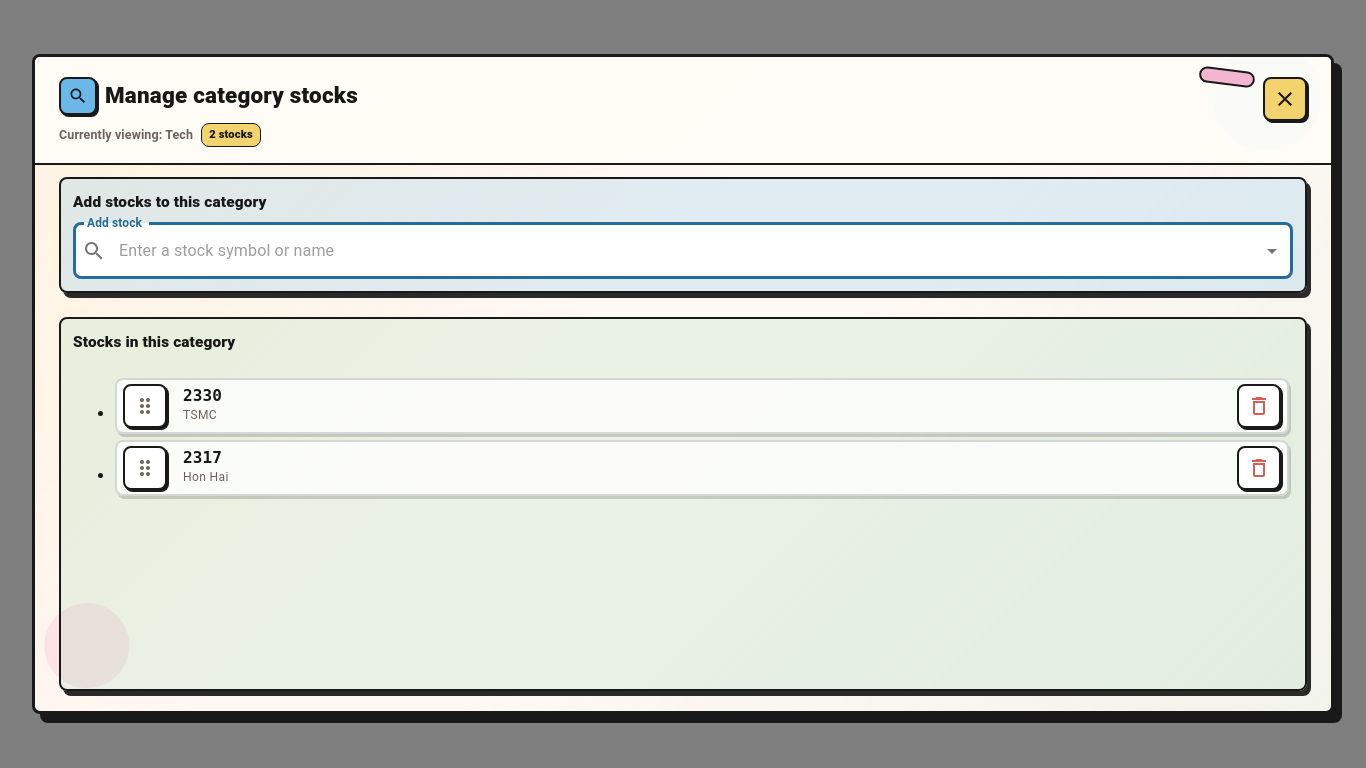
Test case: AddStockDialog category stock management › persists a searched stock immediately and keeps the dialog open
Type "2454" into the dropdown at {"x": 684, "y": 251}, box top-left (114, 232), bottom-right (1254, 270)
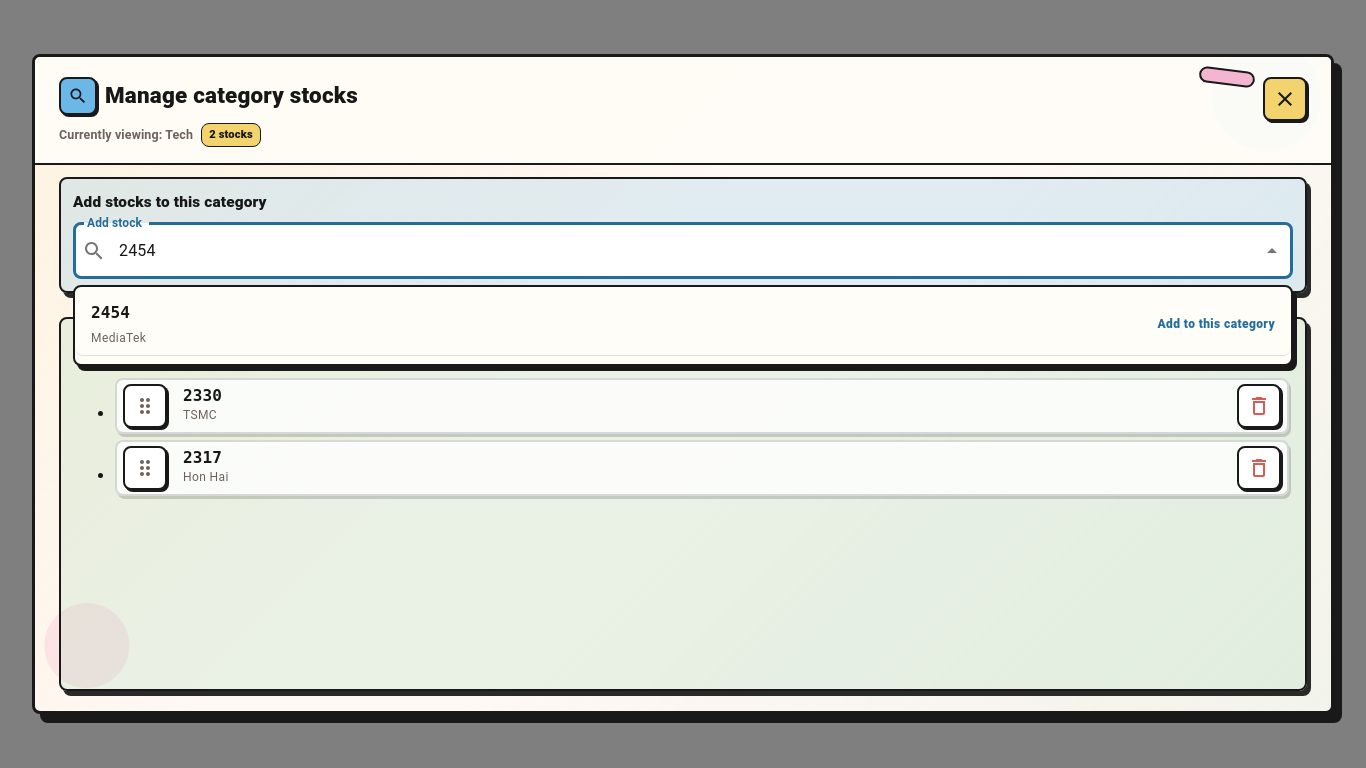
Click the option "2454 MediaTek Add to this category" at {"x": 111, "y": 312}, box top-left (75, 295), bottom-right (1291, 356)
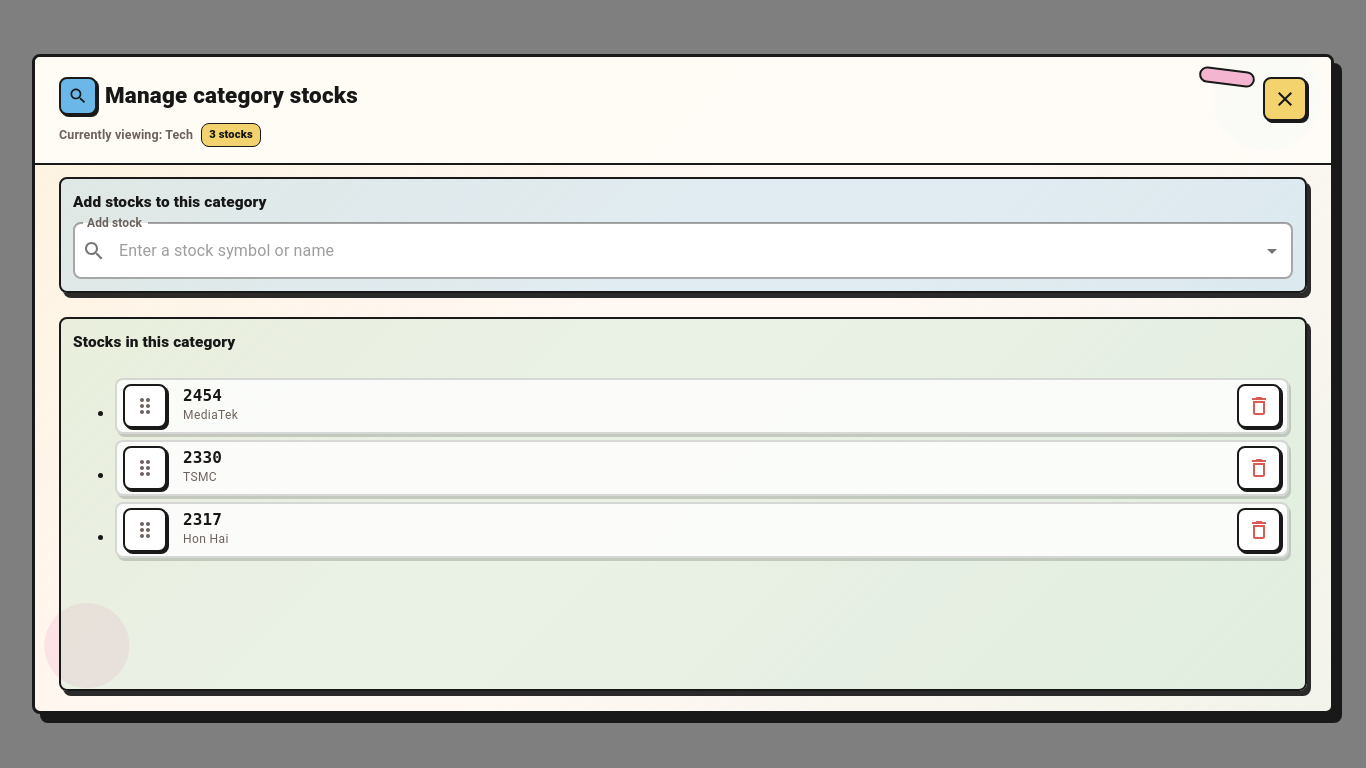
Now the text "3 stocks" is shown, box top-left (201, 123), bottom-right (261, 147)
